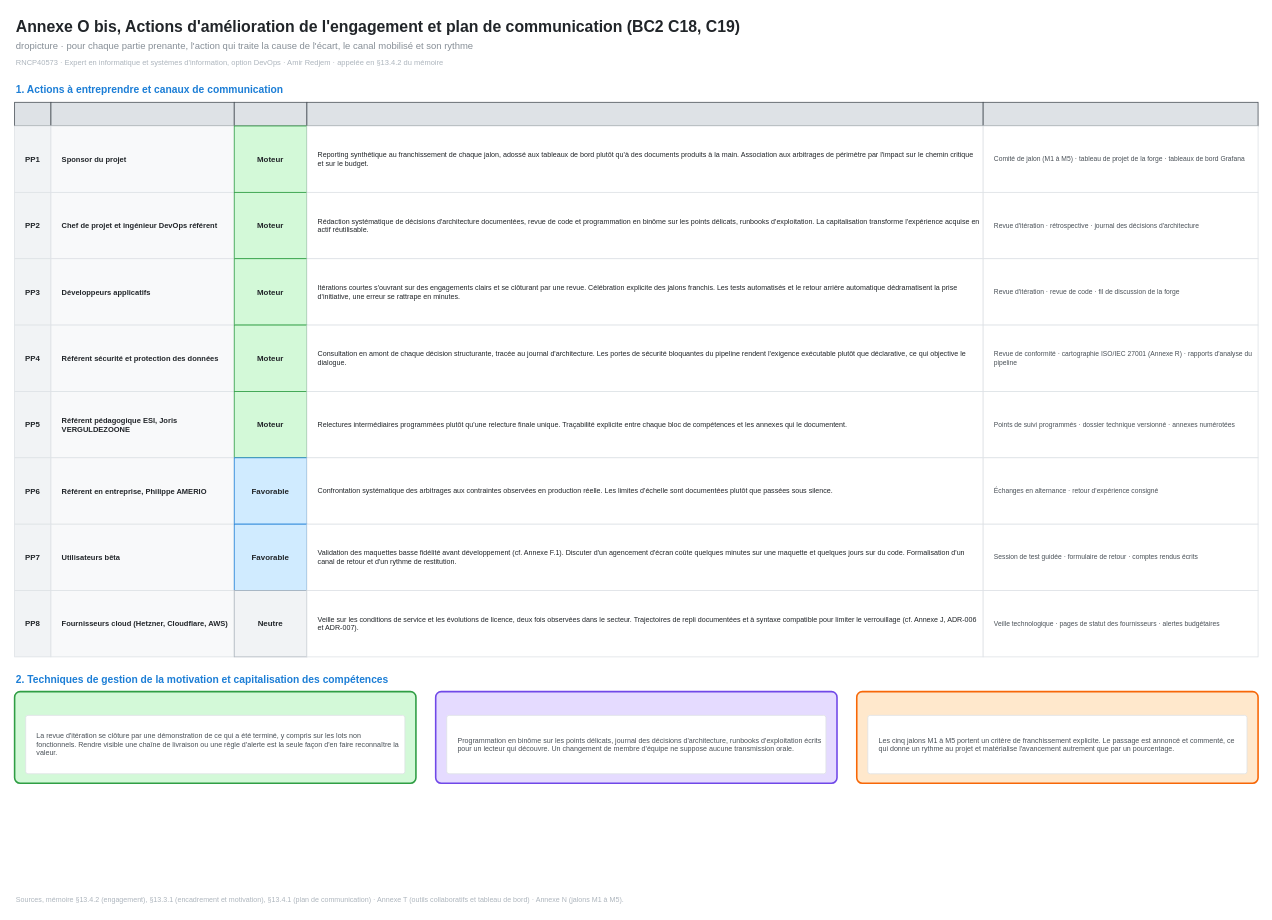
This 1272x920 diagram has some shape labels left out. The shapes that lost their labels are listed below. From the top down, each one's box as (x1, y1, x2, y2) in pixels, then its label:
(14, 102, 51, 126): Réf.
(50, 102, 234, 126): Partie prenante
(233, 102, 307, 126): Cible
(306, 102, 983, 126): Actions d'amélioration de la satisfaction et de l'implication
(982, 102, 1258, 126): Canaux et rythme
(13, 690, 416, 784): RECONNAISSANCE DU TRAVAIL INVISIBLE
(434, 690, 837, 784): PASSATION DES COMPÉTENCES
(856, 690, 1258, 784): CÉLÉBRATION DES JALONS
